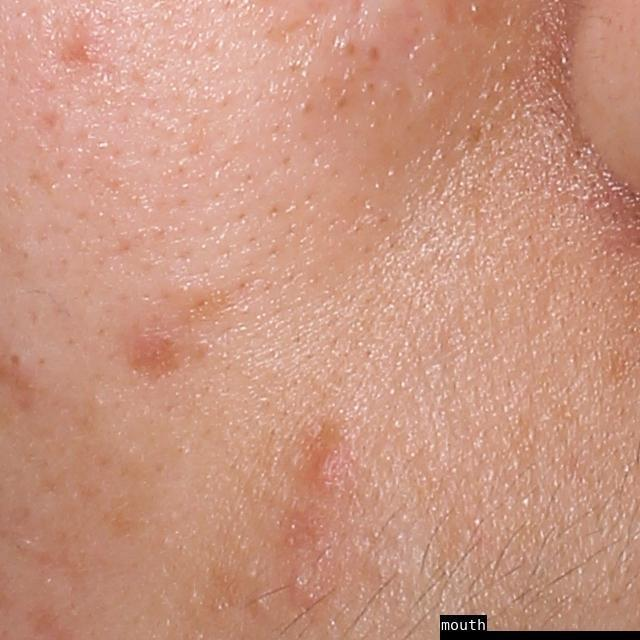comedo: (8, 348, 33, 372), (249, 592, 269, 611)
papule: (308, 442, 341, 489), (67, 35, 105, 66)
